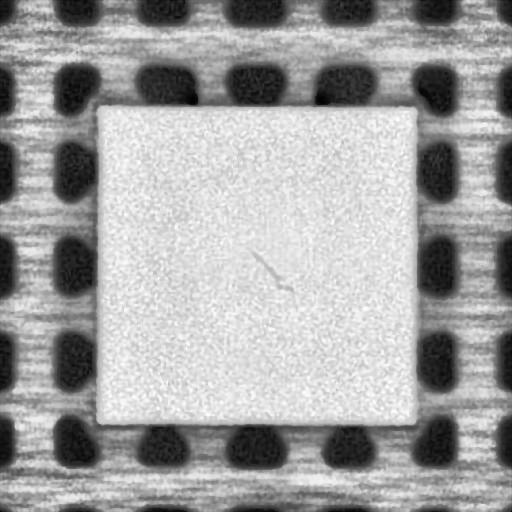DIE_CRACK: (248, 246, 295, 293)
